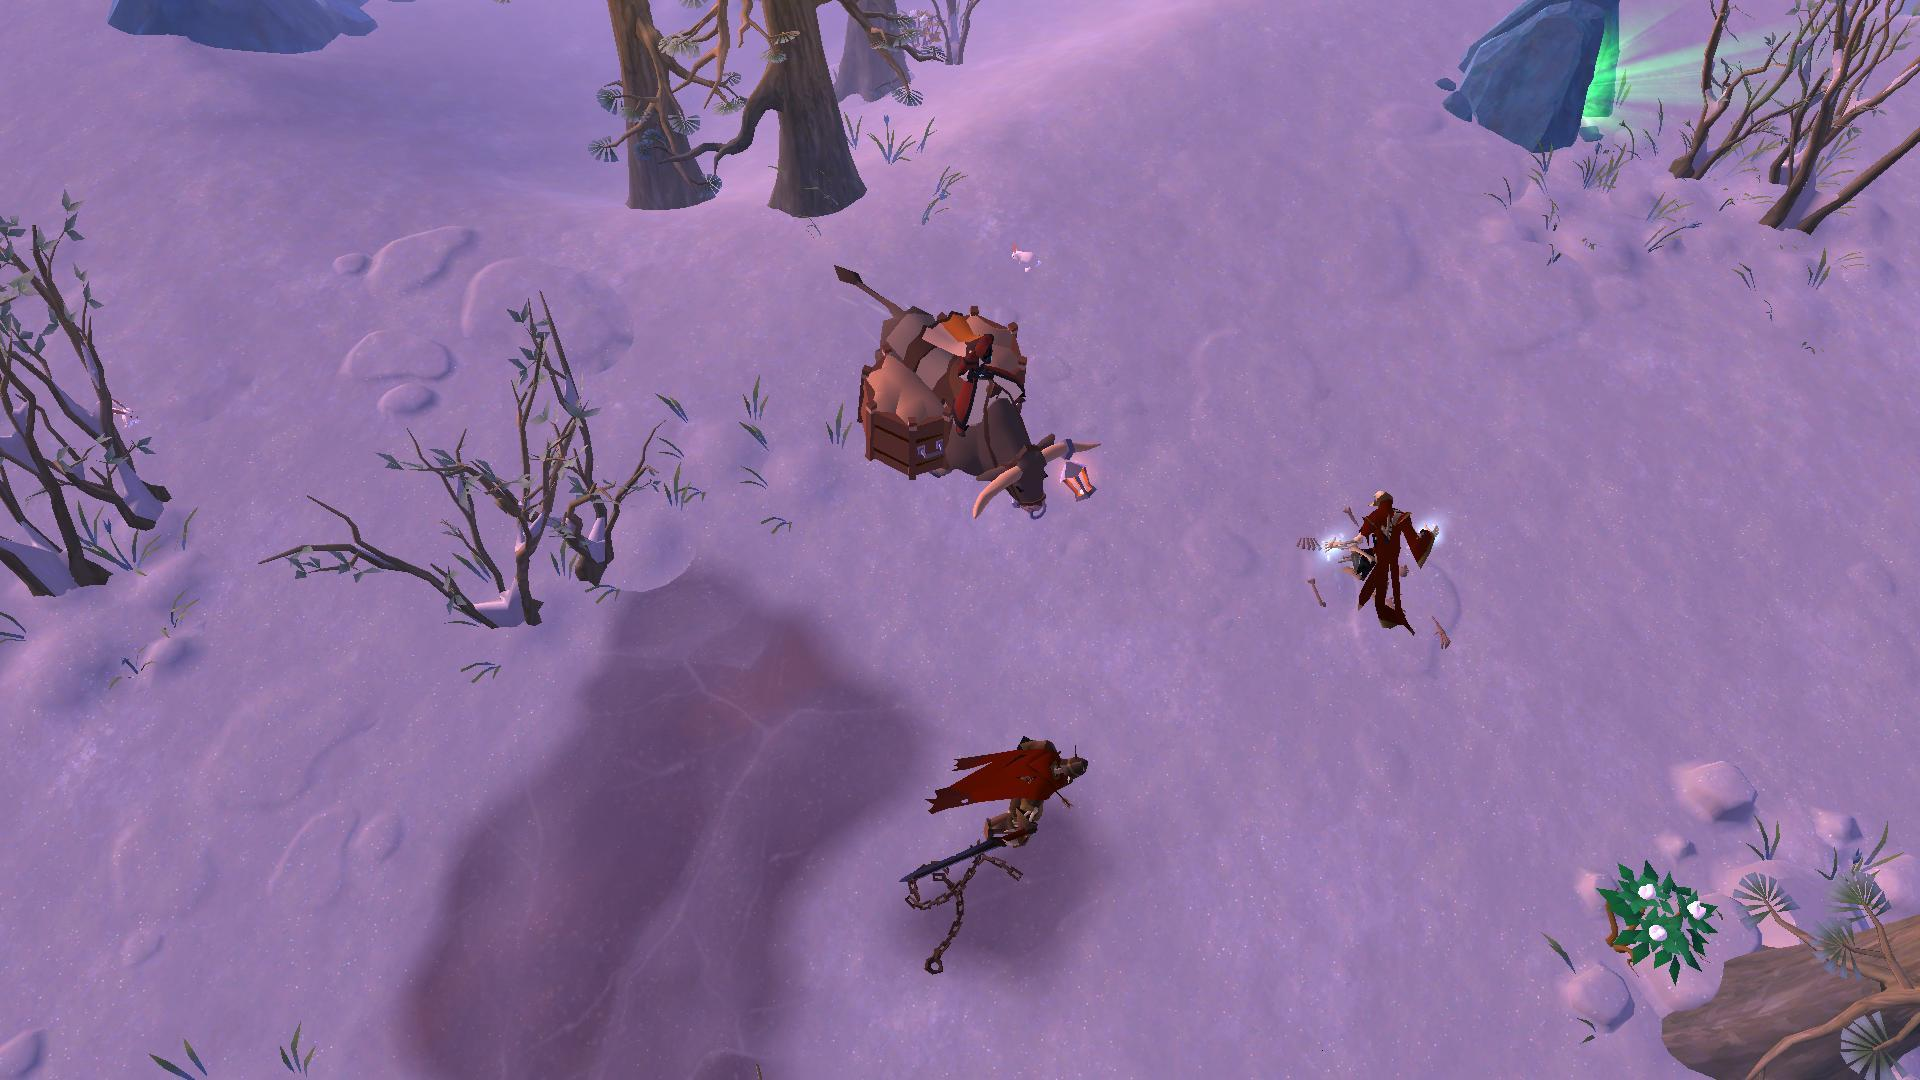enemy_factionUndead: (899, 736, 1080, 868), (1325, 485, 1431, 626)
fiber_t3: (1596, 853, 1716, 981)
